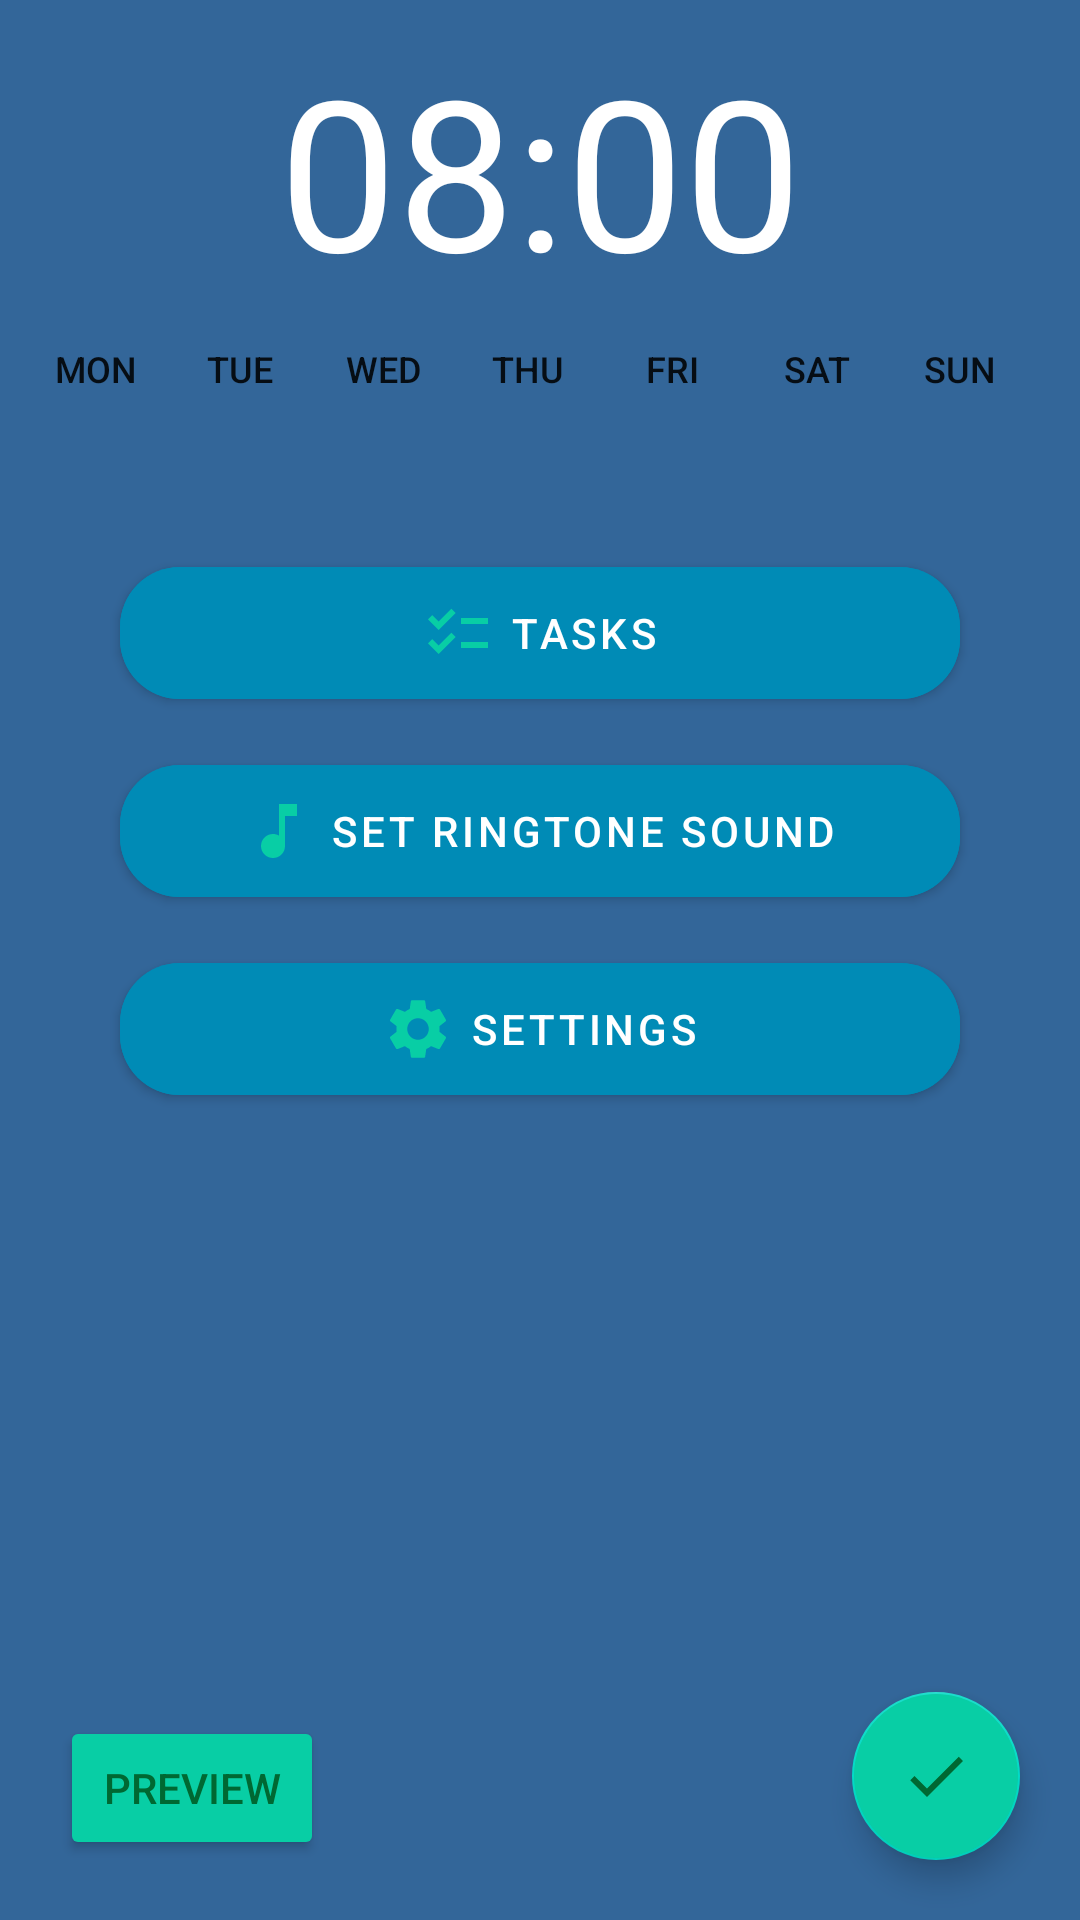

Icons on this 1080 x 1920 Android screen, each with its box as bbox=(x1, y1, x2, y2):
done: bbox=(852, 1692, 1020, 1860)
